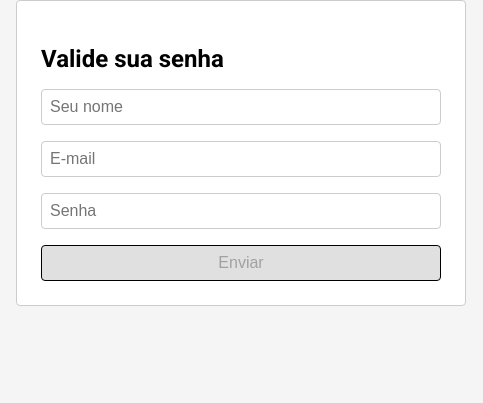
it: RegisterForm - E2E › deve mostrar erro quando a senha for inválida
In the field with placeholder "Seu nome": (241, 107) [41,89,441,125], type "Felipe"
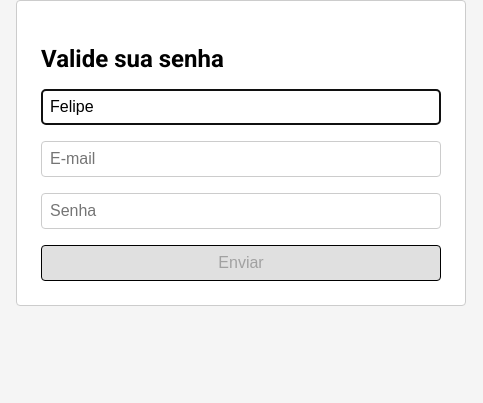
In the field with placeholder "E-mail": (241, 159) [41,141,441,177], type "felipe@test.com"
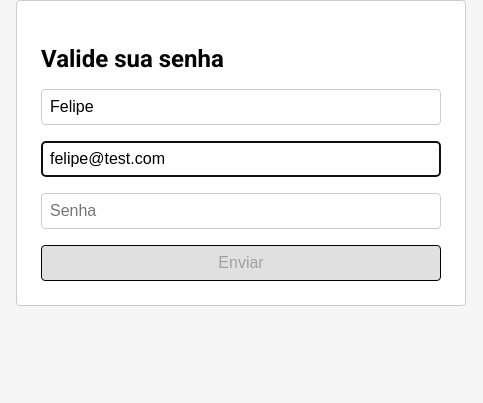
In the password field with placeholder "Senha": (241, 211) [41,193,441,229], type "abc"
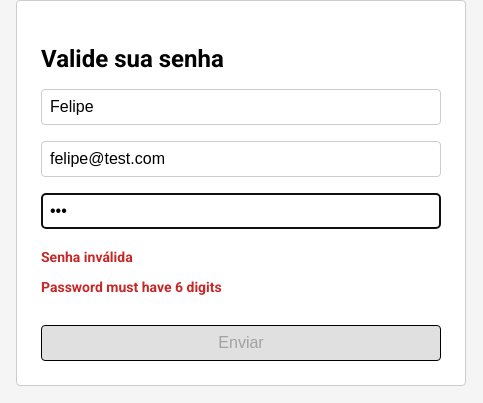
Expected: the text "Password must have 6 digits" is shown, [41,279,222,295]
